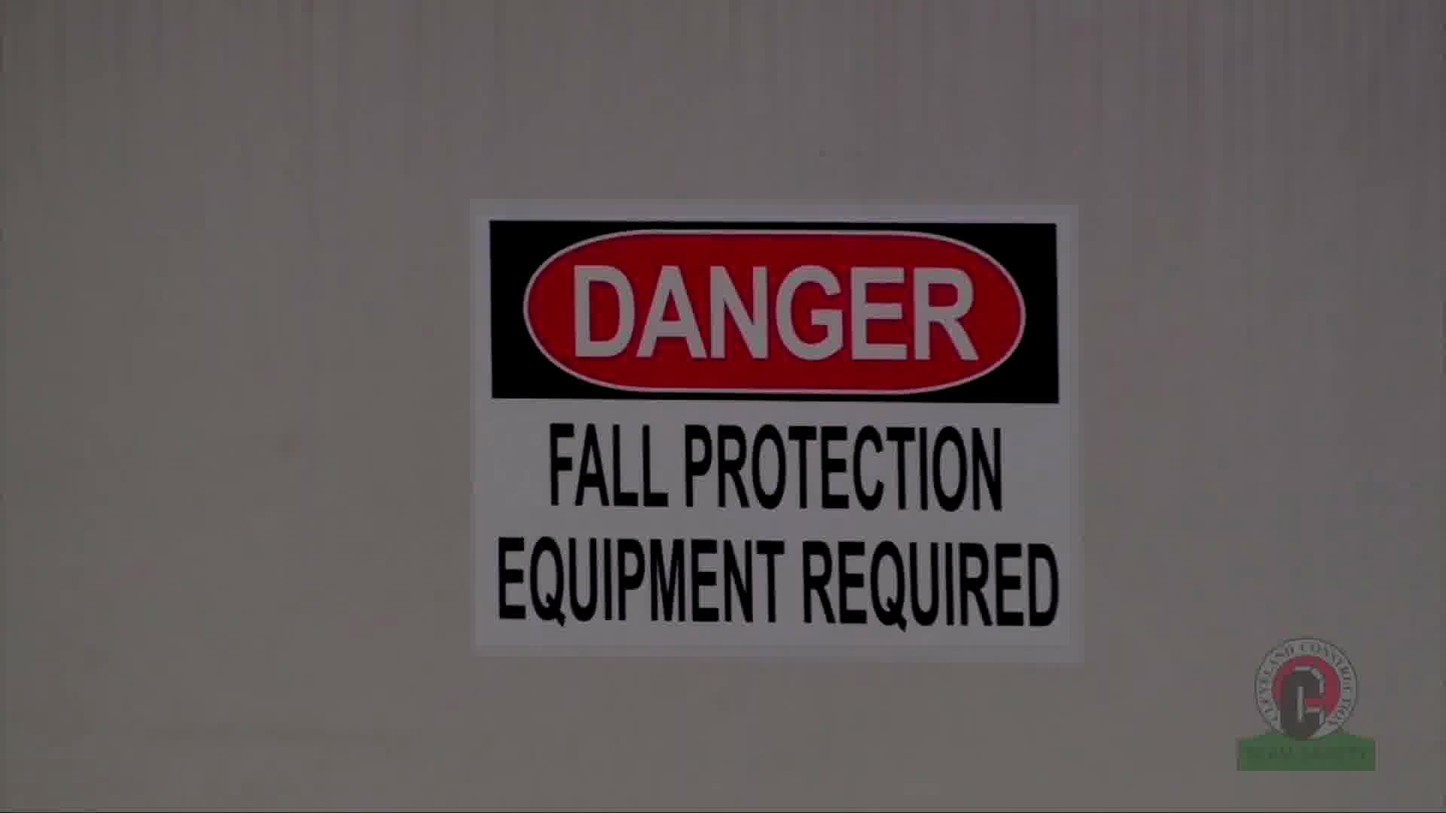safety_signage: (475, 215, 1069, 645)
